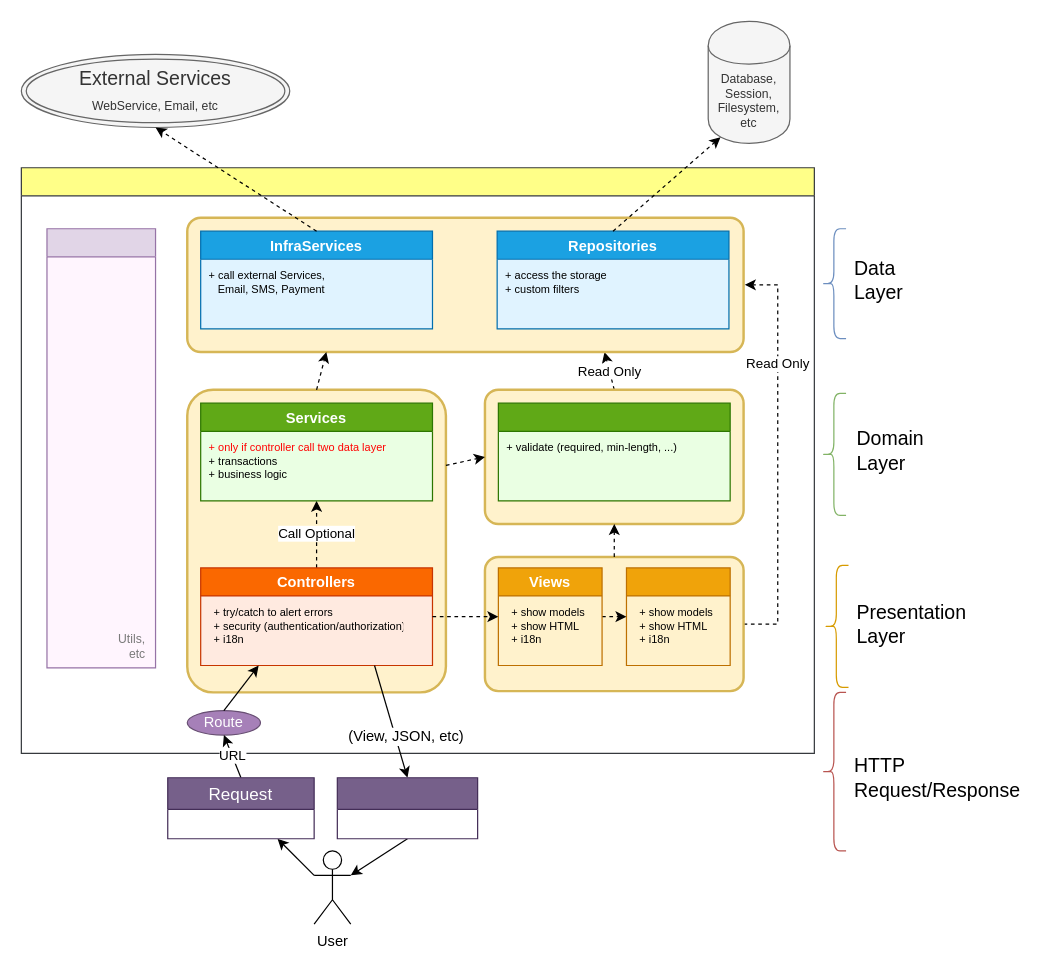
This 1042x971 diagram has some shape labels left out. The shapes that lost their labels are listed below. From the top down, each one's box as (x1, y1, x2, y2) in pixels, then its label:
(46, 228, 156, 668): Common
(20, 167, 814, 753): Application
(497, 402, 730, 501): Models
(625, 567, 730, 666): Blocks
(336, 777, 478, 839): Response
